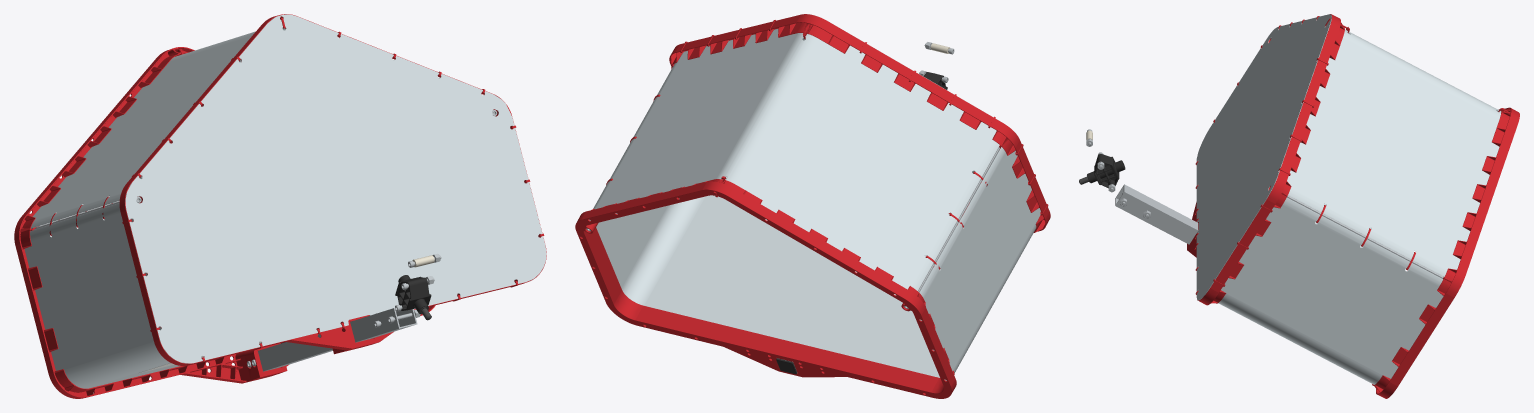
Rendered from cell-red-scoring.glb.
3 views of the same model, side by side, from view 1: azimuth 30°, elevation 25°; view 2: azimuth 150°, elevation 25°; view 3: azimuth 270°, elevation 25° (orthographic). The views are drawn at different scales.
Visible parts, largest first — view 1: hive-red pivot-local visual; view 2: hive-red pivot-local visual; view 3: hive-red pivot-local visual.
Part boxes in pixels (x1,y1,x2,y2): hive-red pivot-local visual: (14, 14, 546, 398); hive-red pivot-local visual: (575, 14, 1050, 398); hive-red pivot-local visual: (1079, 14, 1519, 398).
Bounding box in the file's own units: 0.5349 × 0.506 × 0.6202.
